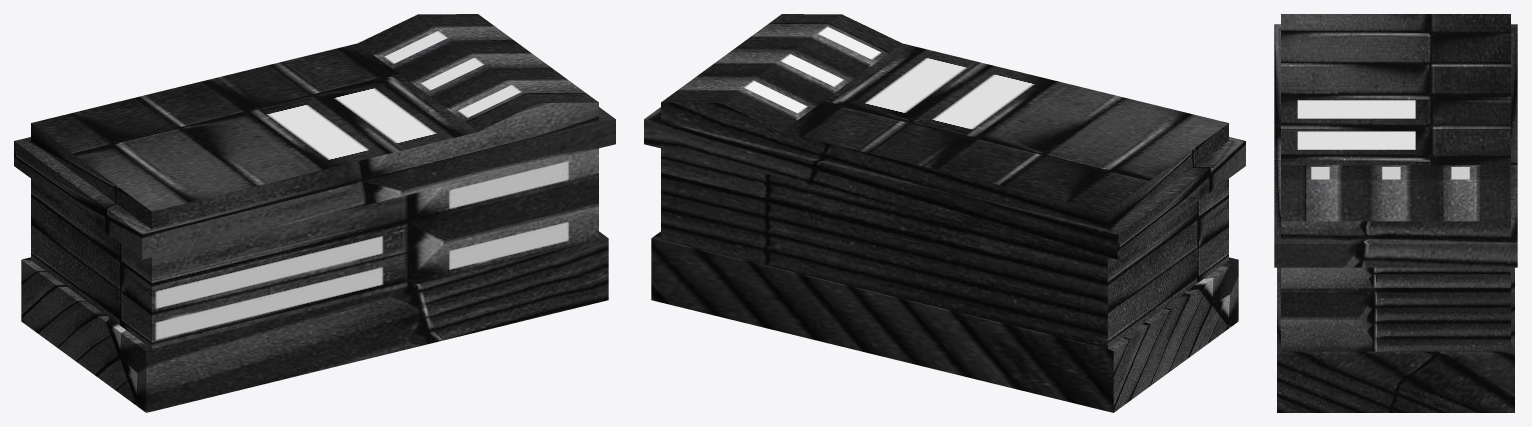
The model's file is Garajeblend.fbx.
3 renders of one model, left to right at view 1: azimuth 30°, elevation 25°; view 2: azimuth 150°, elevation 25°; view 3: azimuth 270°, elevation 25°, orthographic. The views are drawn at different scales.
Parts seen in each view (by area): view 1: Cube; view 2: Cube; view 3: Cube.
Part boxes in pixels (x1,y1,x2,y2): Cube: (14,14,615,412); Cube: (644,14,1245,412); Cube: (1274,14,1517,412).
Bounding box in the file's own units: 3337 × 1428 × 1563.
Materials: 1 (1 with a texture image).
